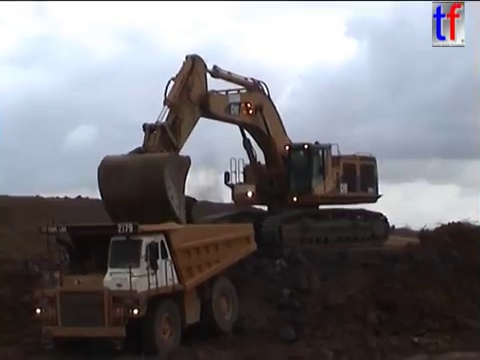excavator: (94, 52, 393, 259)
truck: (22, 215, 259, 360)
